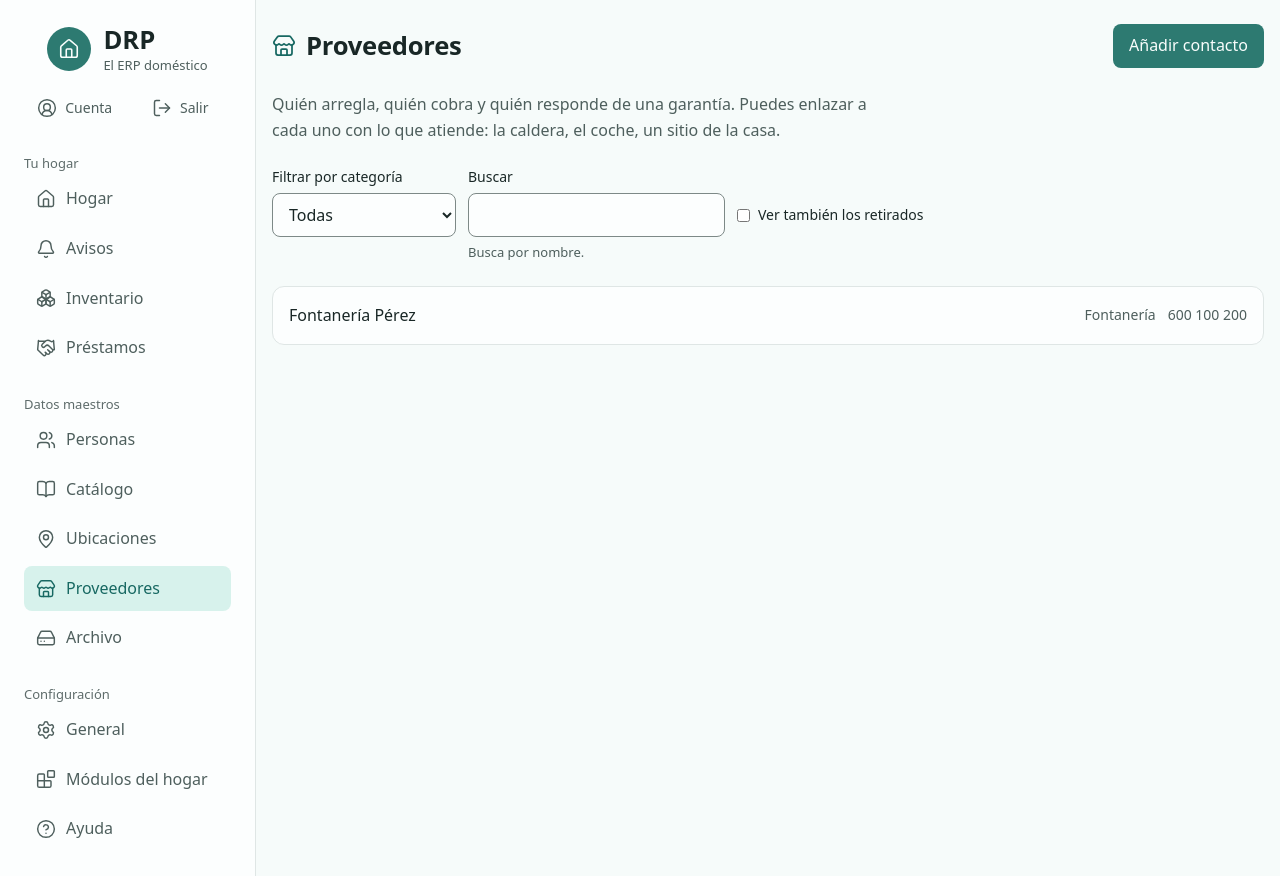
Scenario: listado de contactos de servicio › la ficha se despliega dentro de la fila, sin cambiar de ruta
This screenshot has width=1280, height=876.
expect the heading "Proveedores" is shown: met, box [306,30,462,62]
Step 1. Click the button "Fontanería Pérez Fontanería 600 100 200" → click(352, 315), box [273,287,1263,344]
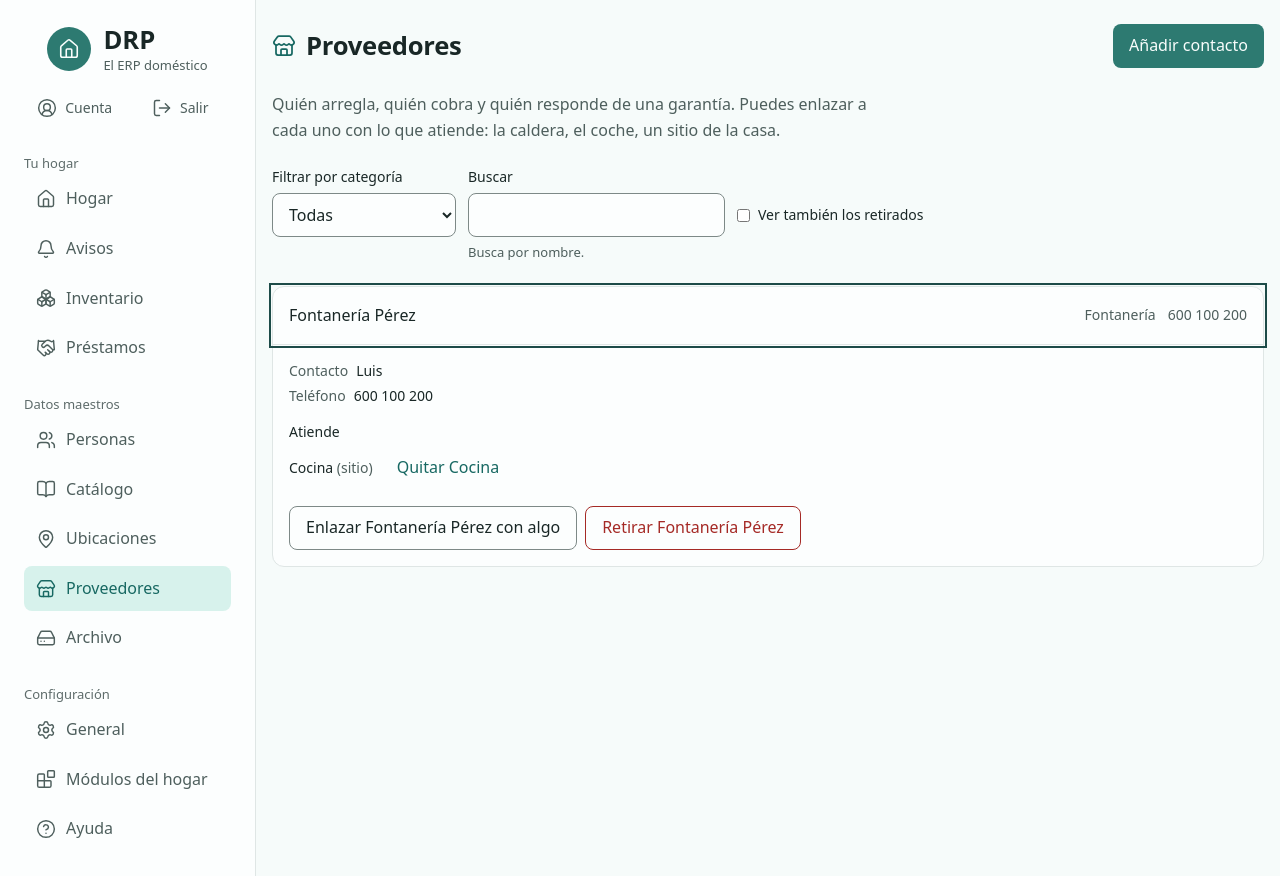
expect the text "Cocina" is shown: met, box [289,458,333,477]
